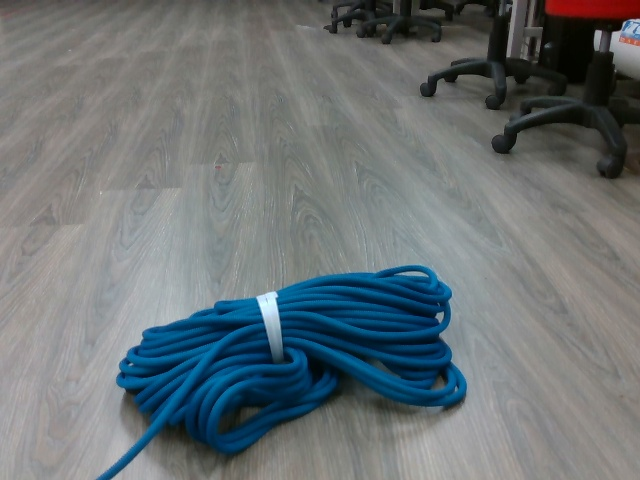rope: (93, 264, 470, 480)
